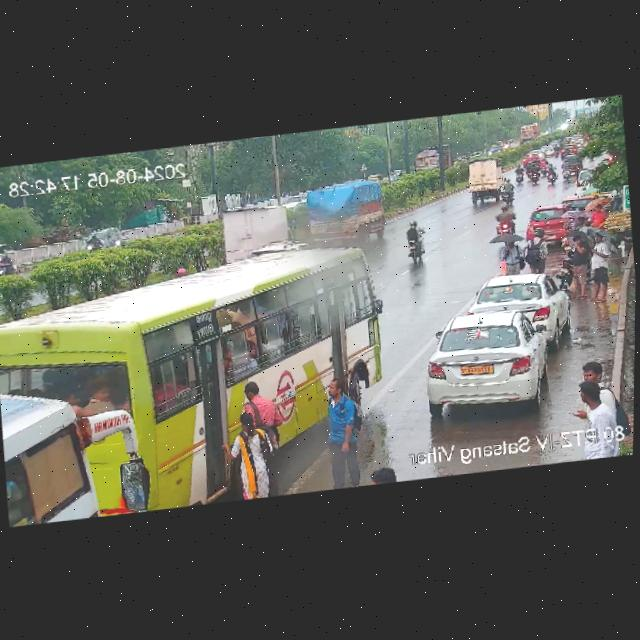bus: (0, 252, 399, 527), (1, 380, 135, 527)
car: (418, 304, 566, 416), (469, 269, 569, 338), (523, 204, 570, 242), (87, 224, 121, 252), (559, 151, 584, 180)
motorcycle: (397, 217, 435, 264), (486, 204, 520, 237), (0, 238, 20, 281), (496, 178, 516, 206), (522, 158, 541, 184), (511, 160, 526, 185), (543, 162, 559, 185)
person: (223, 376, 291, 501), (315, 368, 369, 489), (574, 360, 621, 435), (579, 233, 617, 301), (569, 234, 595, 298), (519, 227, 548, 277), (499, 229, 529, 275), (359, 464, 402, 486)
truck: (303, 178, 391, 253), (219, 195, 309, 267), (459, 155, 512, 206), (412, 144, 456, 175), (517, 120, 542, 145)
